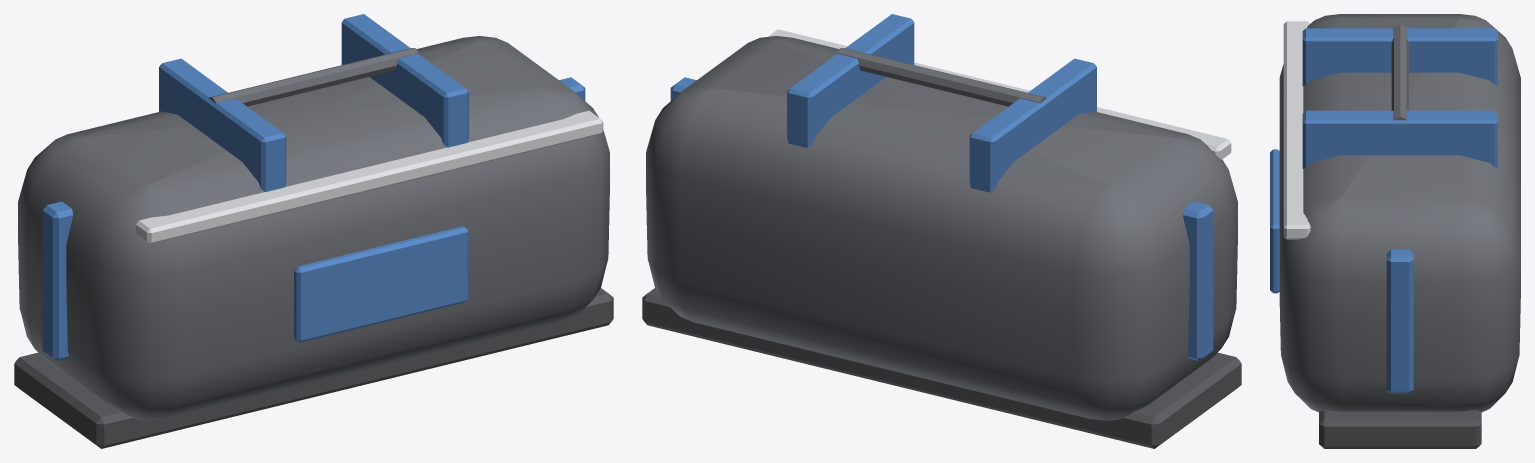
Rendered from ice-hockey-arena-and-locker-room-hockey-bag-1c01d046__33725.glb.
3 renders of one model, left to right at view 1: azimuth 30°, elevation 25°; view 2: azimuth 150°, elevation 25°; view 3: azimuth 270°, elevation 25°, orthographic. The views are drawn at different scales.
Parts seen in each view (by area): view 1: hockey-bag; view 2: hockey-bag; view 3: hockey-bag.
Boxes of the visible parts, x1,y1,x2,y2 form: hockey-bag: (14, 14, 613, 448); hockey-bag: (642, 14, 1241, 448); hockey-bag: (1270, 14, 1520, 448).
Bounding box in the file's own units: 1.05 × 0.536 × 0.4625.
